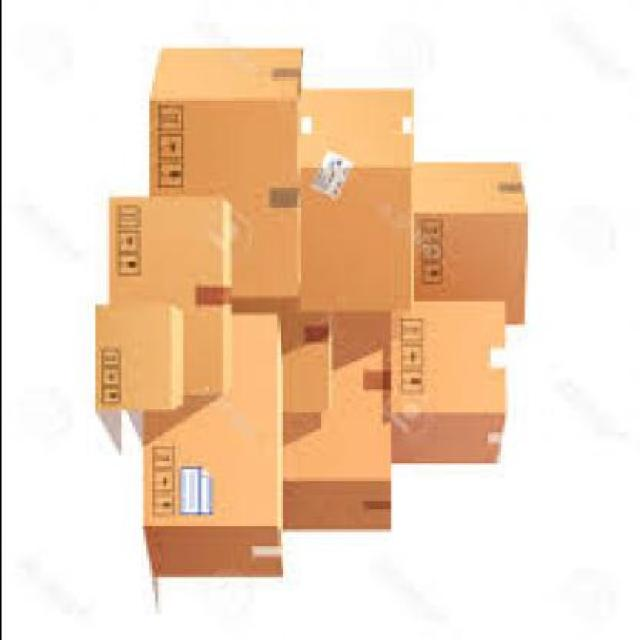CARDBOARD: (148, 43, 308, 292), (145, 307, 287, 575), (111, 193, 237, 393), (282, 308, 396, 529), (308, 85, 415, 310), (412, 158, 530, 322), (392, 296, 506, 461), (96, 302, 186, 409), (279, 302, 333, 409)
